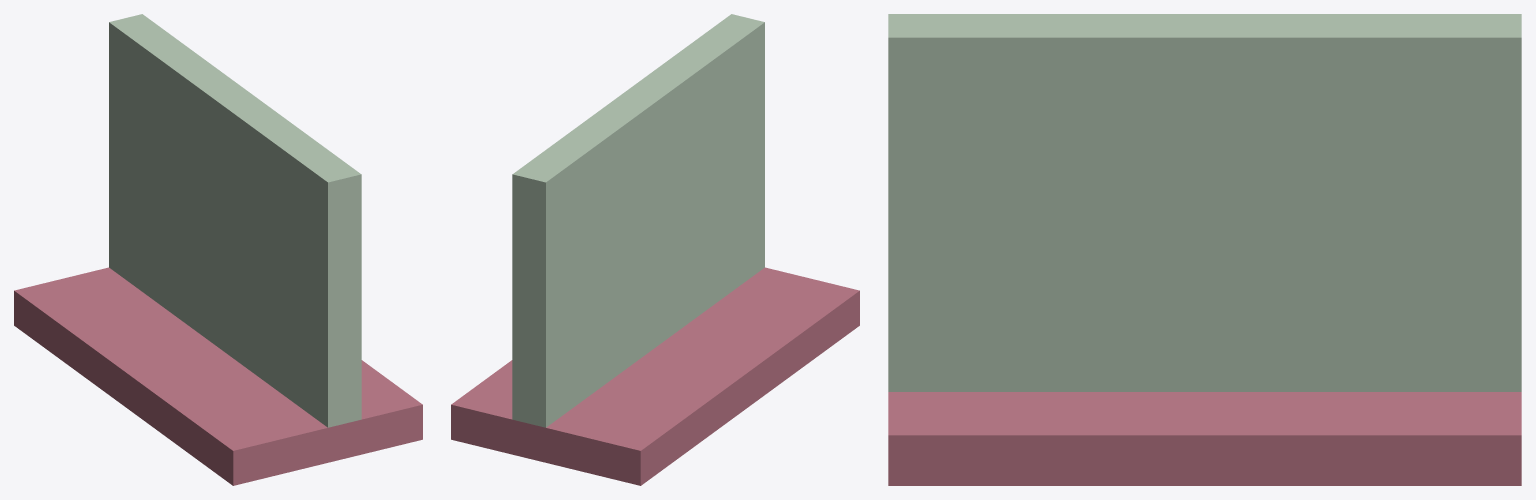
The picture shows the model from 3 angles, left to right: view 1: azimuth 30°, elevation 25°; view 2: azimuth 150°, elevation 25°; view 3: azimuth 270°, elevation 25°; orthographic projection. The views are drawn at different scales.
Parts seen in each view (by area): view 1: world; view 2: world; view 3: world.
Boxes of the visible parts, x1,y1,x2,y2 form: world: (14, 14, 422, 485); world: (451, 14, 859, 485); world: (888, 14, 1521, 485).
Bounding box in the file's own units: 3.4 × 4.8 × 6.8.
